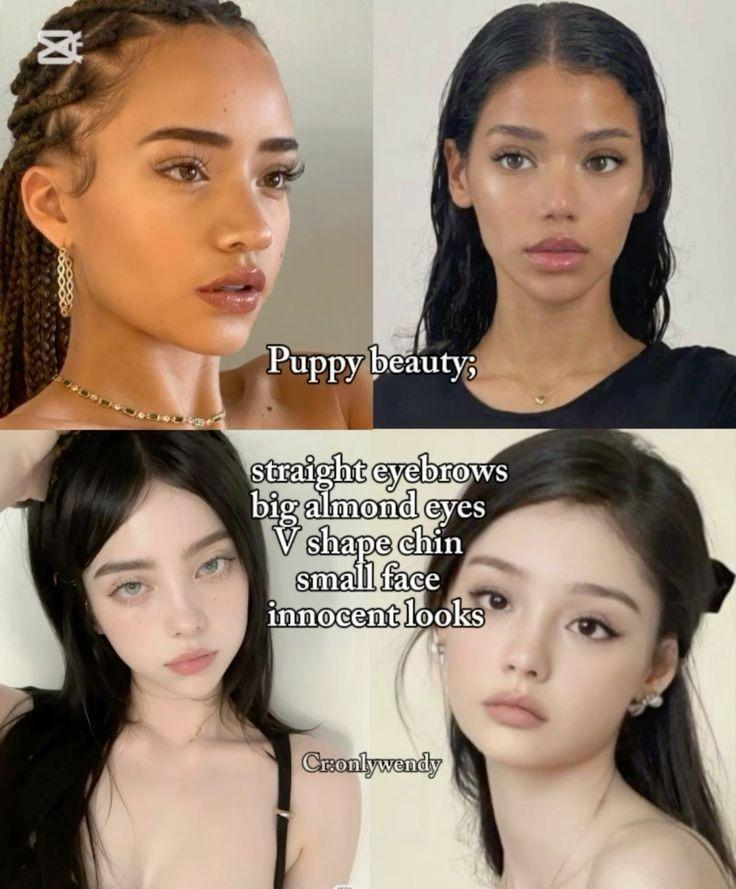non-dog: (0, 430, 362, 889), (1, 1, 373, 429), (395, 430, 736, 889), (374, 3, 736, 429)
